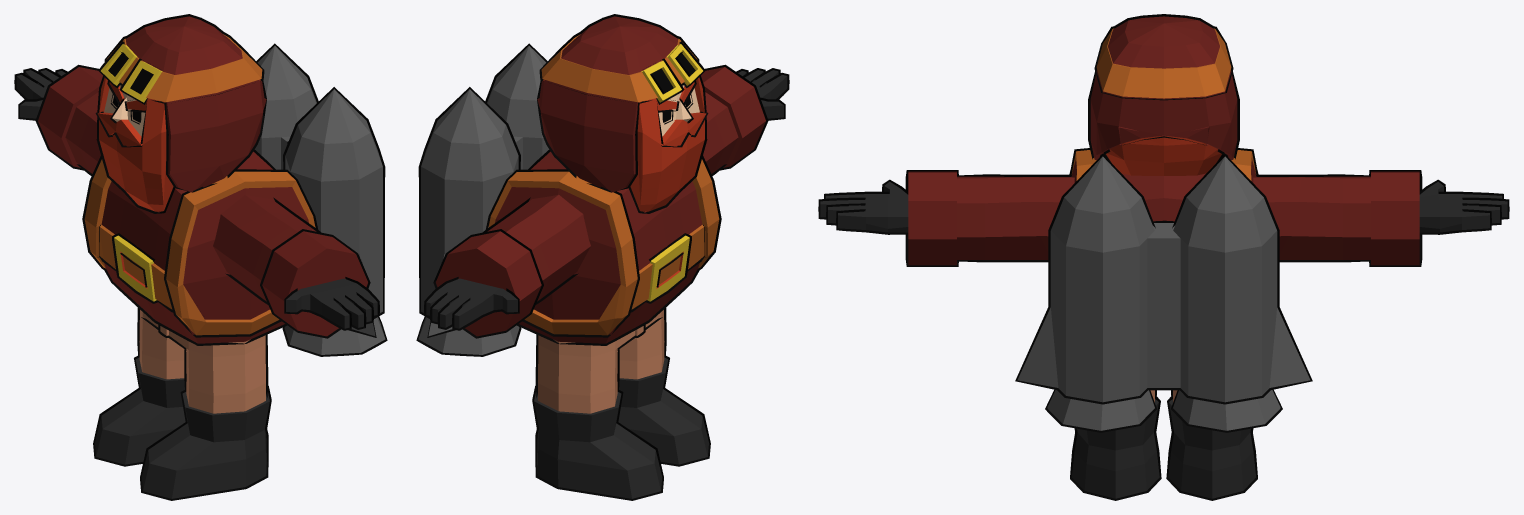
The model's file is light enemy.fbx.
3 views of the same model, side by side, from view 1: azimuth 30°, elevation 25°; view 2: azimuth 150°, elevation 25°; view 3: azimuth 270°, elevation 25° (orthographic). The views are drawn at different scales.
Parts seen in each view (by area): view 1: Sphere.001, Cylinder.002, Cube, Cylinder, Cylinder.001, Cube.001; view 2: Sphere.001, Cylinder.002, Cube, Cylinder, Cylinder.001, Cube.001; view 3: Cylinder, Cylinder.001, Sphere.001, Cylinder.002, Cube.001, Cube.
Part boxes in pixels (<box>): Sphere.001: <box>95,14,266,213</box>; Cylinder.002: <box>93,307,271,500</box>; Cube: <box>82,149,317,345</box>; Cylinder: <box>254,43,387,356</box>; Cylinder.001: <box>35,64,370,338</box>; Cube.001: <box>14,68,379,330</box>; Sphere.001: <box>537,14,708,213</box>; Cylinder.002: <box>532,307,710,500</box>; Cube: <box>486,149,721,345</box>; Cylinder: <box>416,43,549,356</box>; Cylinder.001: <box>433,64,768,338</box>; Cube.001: <box>424,68,789,330</box>; Cylinder: <box>1015,154,1312,432</box>; Cylinder.001: <box>905,170,1422,266</box>; Sphere.001: <box>1088,14,1239,175</box>; Cylinder.002: <box>1070,390,1257,500</box>; Cube.001: <box>818,179,1509,234</box>; Cube: <box>1069,148,1258,221</box>.
Bounding box in the file's own units: 349 × 600 × 837.
